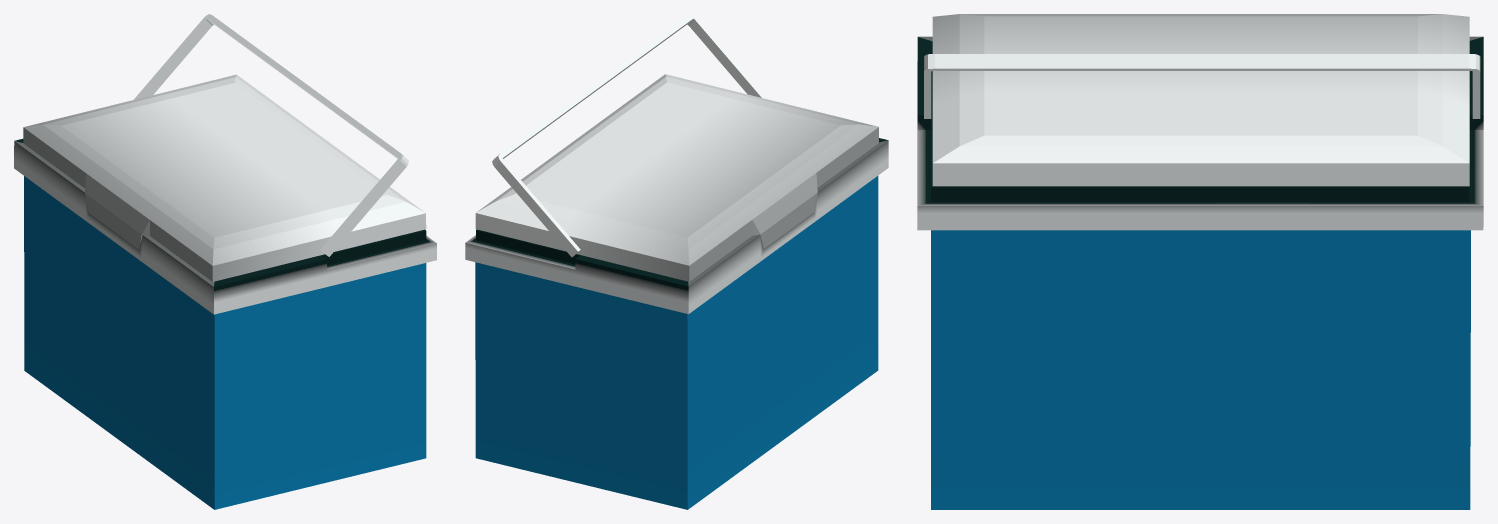
The model's file is Nevera portatil .fbx.
3 views of the same model, side by side, from view 1: azimuth 30°, elevation 25°; view 2: azimuth 150°, elevation 25°; view 3: azimuth 270°, elevation 25° (orthographic). The views are drawn at different scales.
Visible parts, largest first — view 1: Cubo.060, Cubo.062, Cubo.059; view 2: Cubo.060, Cubo.062, Cubo.059; view 3: Cubo.060, Cubo.062, Cubo.059.
Part boxes in pixels (box(x1,y1,x2,y2)): Cubo.060: box(14, 139, 436, 509); Cubo.062: box(23, 74, 426, 281); Cubo.059: box(133, 14, 408, 256); Cubo.060: box(465, 138, 888, 509); Cubo.062: box(475, 74, 878, 281); Cubo.059: box(492, 14, 766, 257); Cubo.060: box(917, 36, 1483, 509); Cubo.062: box(932, 14, 1469, 186); Cubo.059: box(924, 54, 1480, 118).
Bounding box in the file's own units: 35.45 × 46.96 × 54.84.
3 materials, 3 textured.
